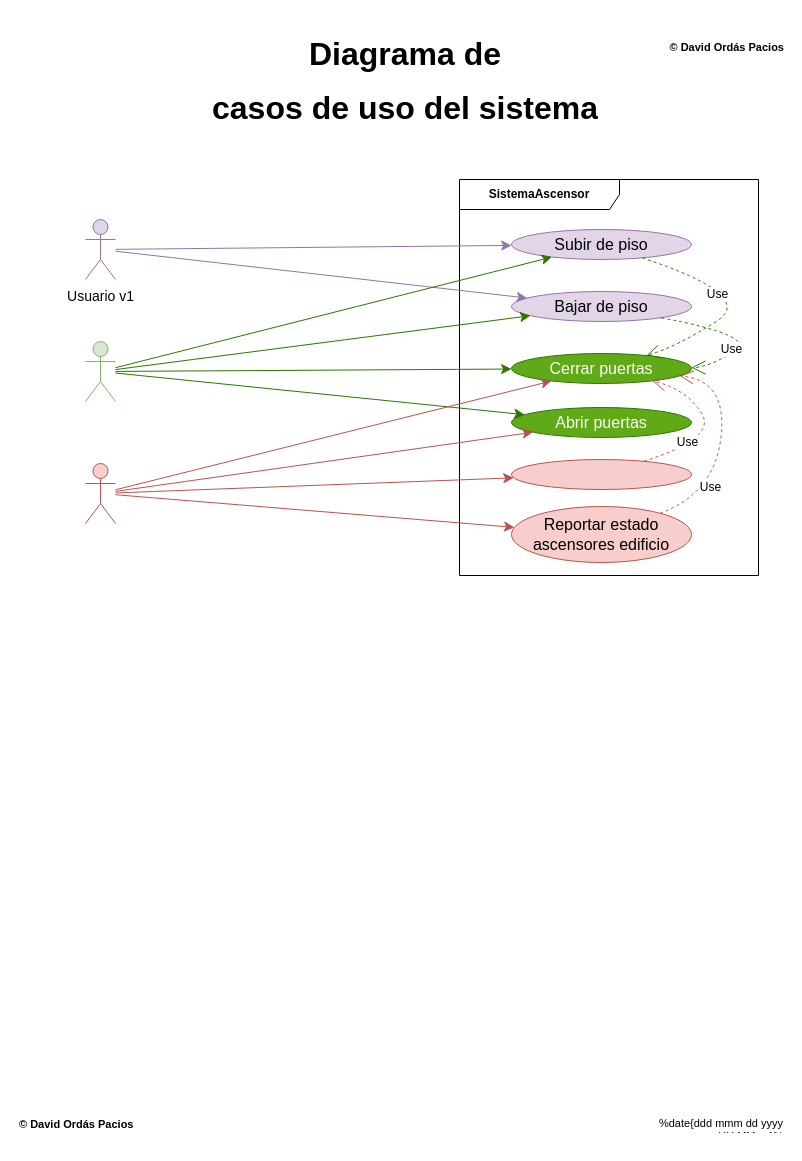
This 802x1161 diagram has some shape labels left out. Each missing label, with the box of its shape:
Ir al piso N: (510, 458, 692, 490)
Usuario v2: (84, 340, 116, 402)
Usuario v3: (84, 462, 116, 524)
